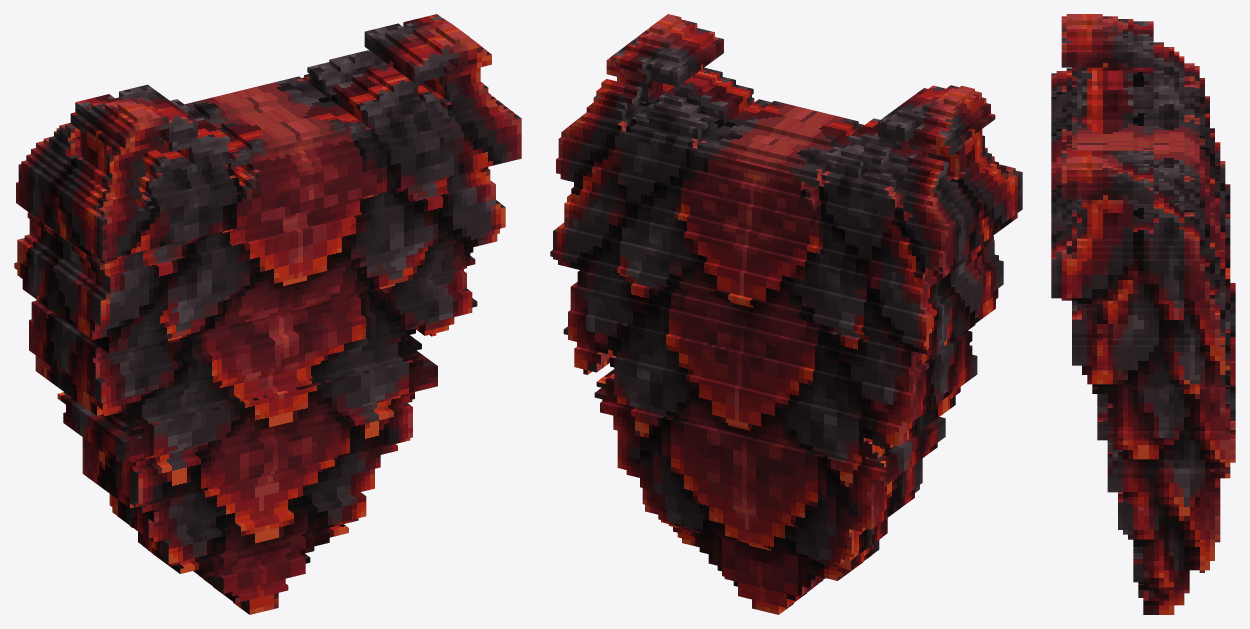
Rendered from dragon-scale.glb.
3 views of the same model, side by side, from view 1: azimuth 30°, elevation 25°; view 2: azimuth 150°, elevation 25°; view 3: azimuth 270°, elevation 25° (orthographic). The views are drawn at different scales.
Visible parts, largest first — view 1: dragon-scale_voxels; view 2: dragon-scale_voxels; view 3: dragon-scale_voxels.
Boxes of the visible parts, <box> form: dragon-scale_voxels: <box>14,14,521,614</box>; dragon-scale_voxels: <box>550,14,1022,614</box>; dragon-scale_voxels: <box>1051,14,1235,614</box>.
Size of the model in its own units: 0.7768 by 1 by 0.3214.
1 material, 1 textured.
